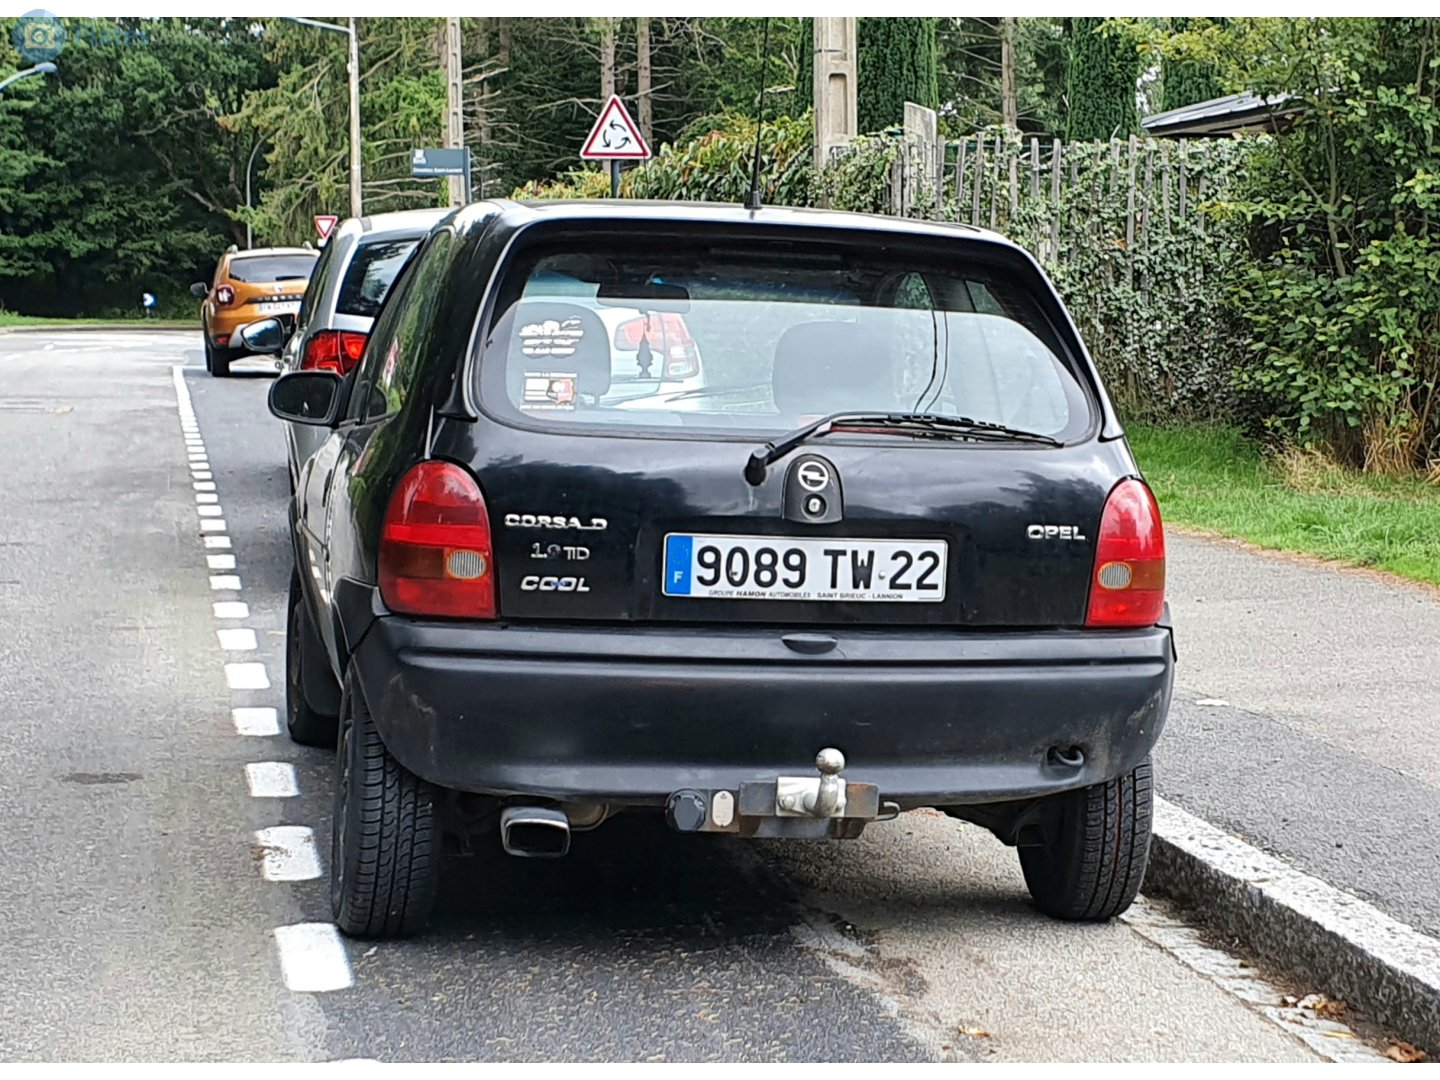licence plate: (659, 526, 948, 606)
